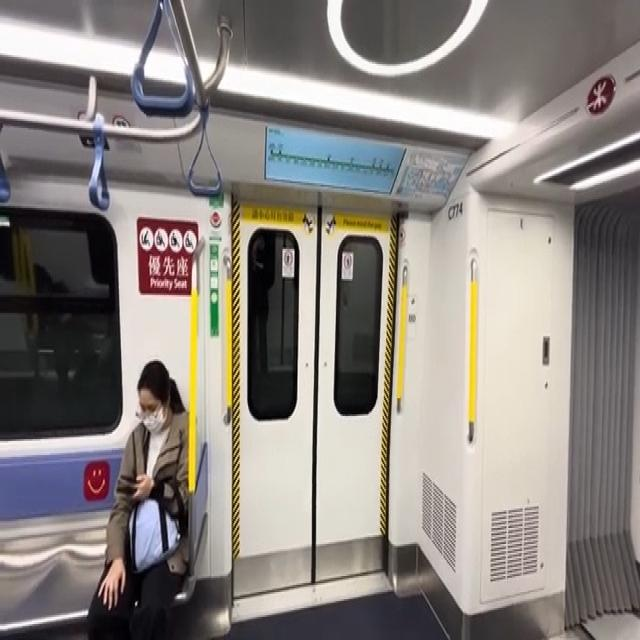bus-door: (233, 196, 395, 602)
